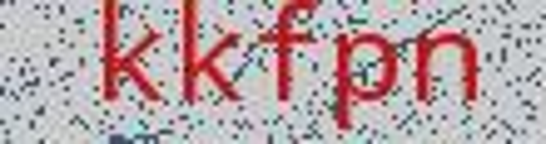f: (255, 1, 321, 106)
k: (171, 2, 249, 118), (88, 2, 165, 113)
n: (413, 22, 486, 124)
p: (328, 23, 401, 140)
